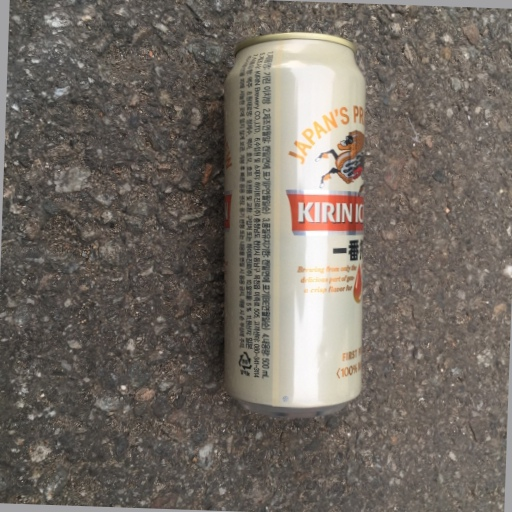Metal_0: (219, 32, 370, 418)
